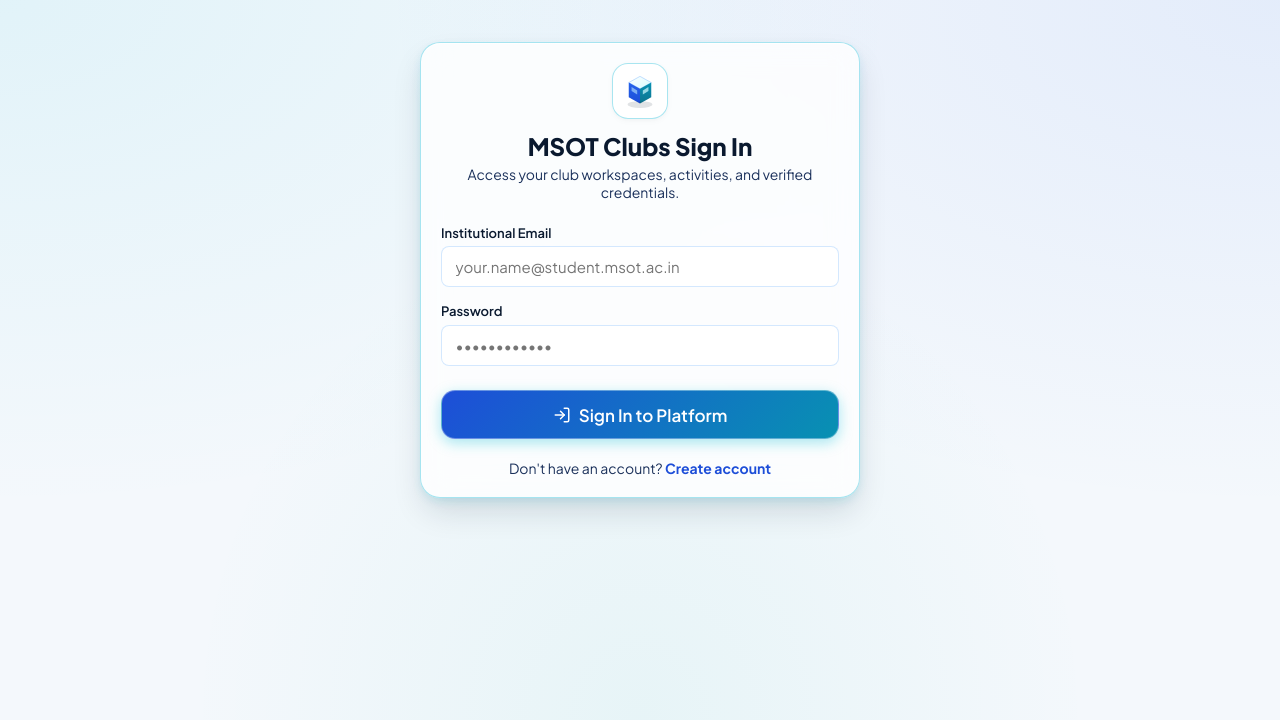
Supabase Authentication Flow & Profile Resilience › 2. Failed login: signInWithPassword returns error, displays error message, user remains null
Type "wrong@msot.ac.in" into the field labelled "Institutional Email" at (640, 267), box [441, 246, 839, 287]
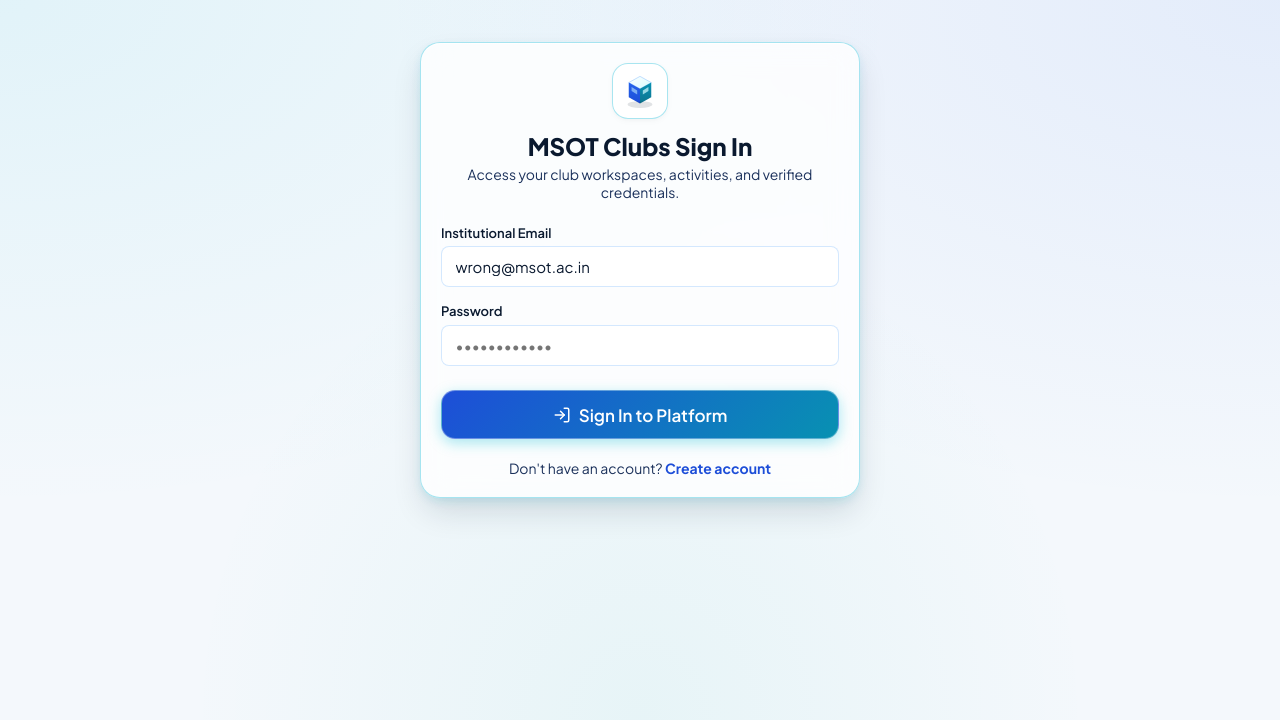
Type "WrongPassword" into the password field labelled "Password" at (640, 345), box [441, 325, 839, 366]
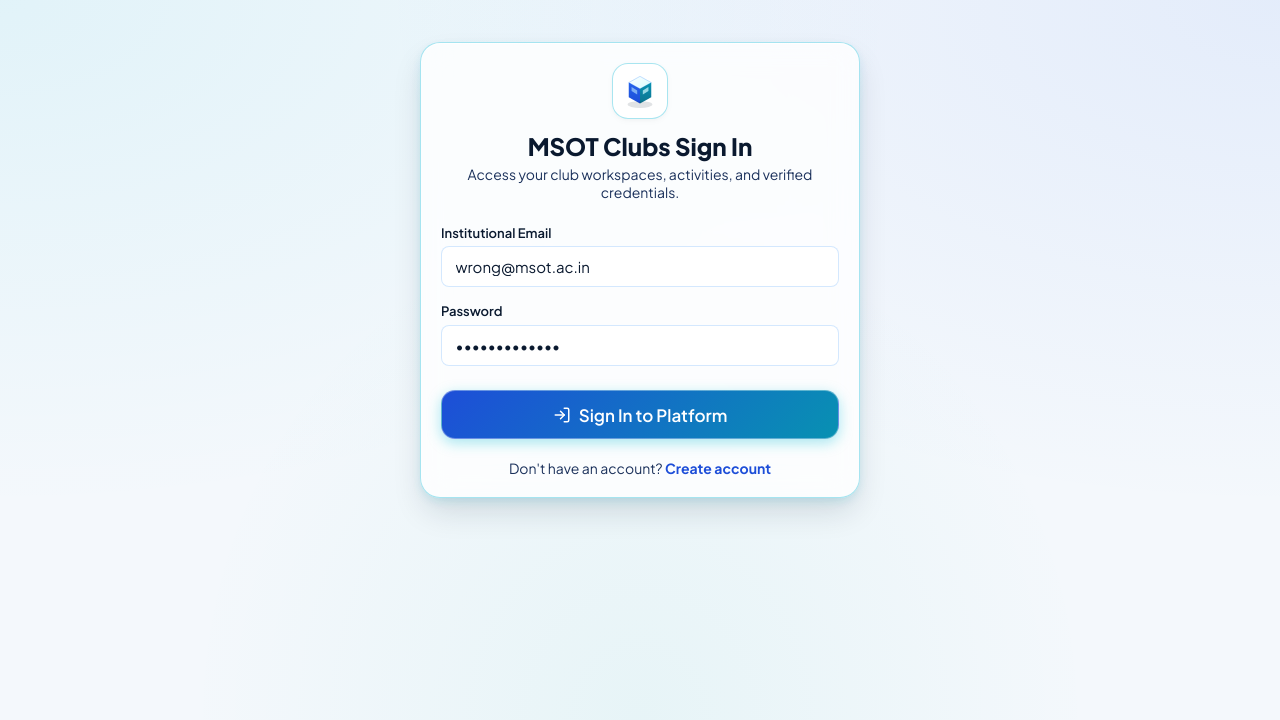
Click the button "Sign In to Platform" at (640, 415), box [441, 390, 839, 439]
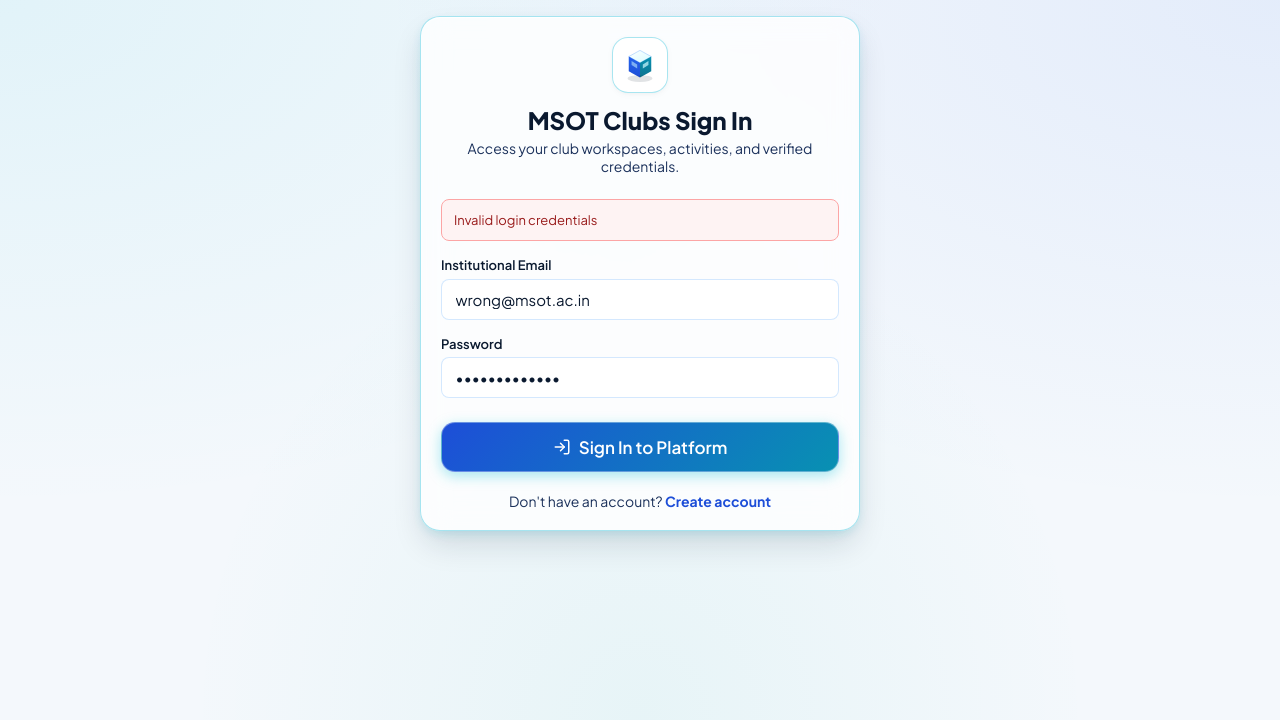
Expected: the text "Invalid login credentials" is shown, [441, 199, 839, 241]
